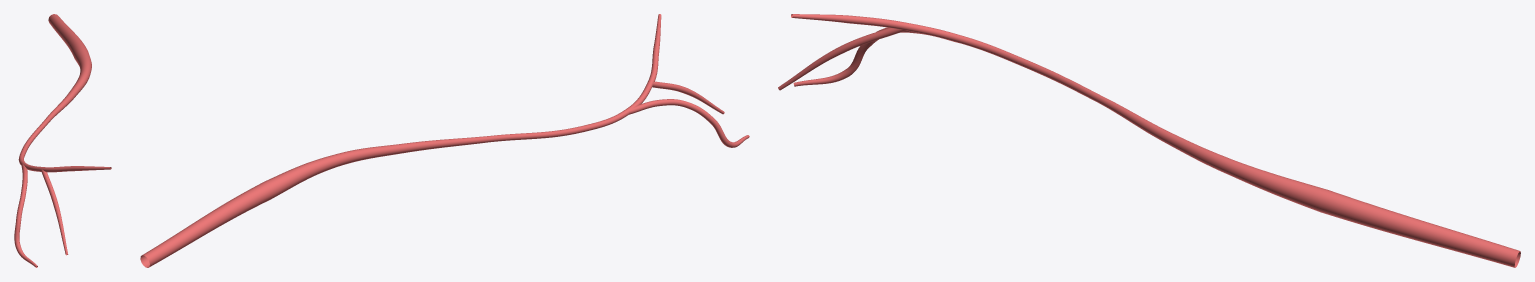
File: Lacrimal_artery.r.001_BezierCurve.296.glb
3 views of the same model, side by side, from view 1: azimuth 30°, elevation 25°; view 2: azimuth 150°, elevation 25°; view 3: azimuth 270°, elevation 25° (orthographic). The views are drawn at different scales.
Visible parts, largest first — view 1: Lacrimal_artery.r.001_BezierCurve.296; view 2: Lacrimal_artery.r.001_BezierCurve.296; view 3: Lacrimal_artery.r.001_BezierCurve.296.
Part boxes in pixels (<box>): Lacrimal_artery.r.001_BezierCurve.296: <box>14,14,111,267</box>; Lacrimal_artery.r.001_BezierCurve.296: <box>140,14,749,267</box>; Lacrimal_artery.r.001_BezierCurve.296: <box>778,14,1520,267</box>.
Bounding box in the file's own units: 0.0235 × 0.00708 × 0.0377.
